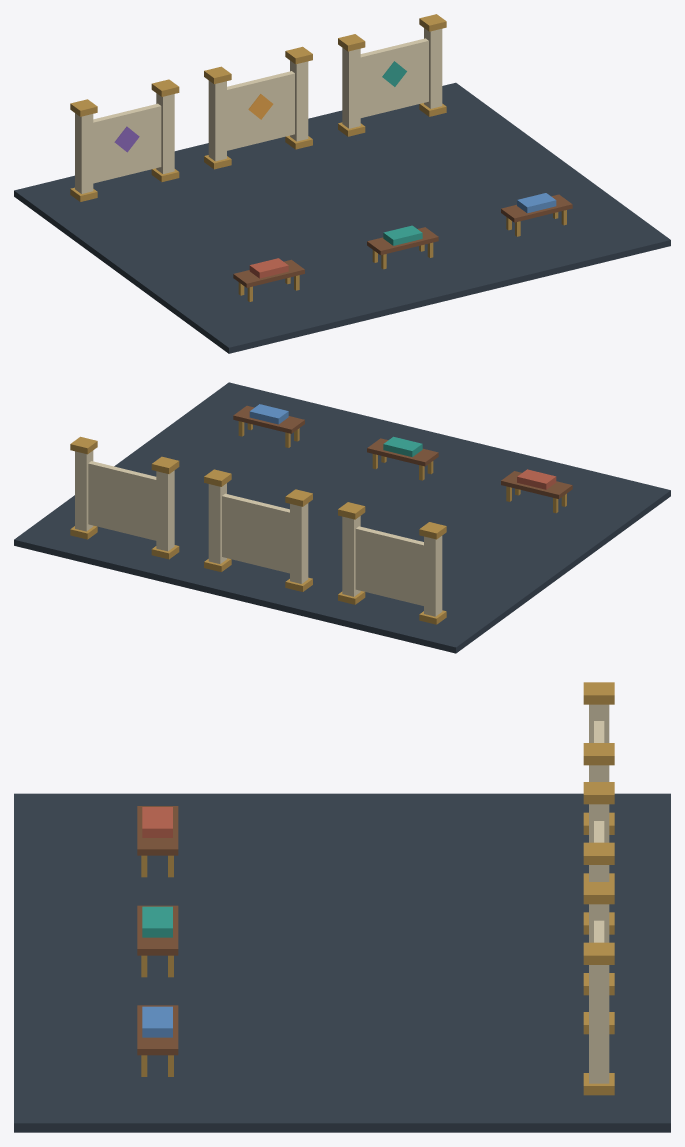
The model's file is invitation_gallery.glb.
3 renders of one model, top to bottom at view 1: azimuth 30°, elevation 25°; view 2: azimuth 150°, elevation 25°; view 3: azimuth 270°, elevation 25°, orthographic. The views are drawn at different scales.
Parts seen in each view (by area): view 1: invitation_gallery; view 2: invitation_gallery; view 3: invitation_gallery.
Part boxes in pixels (box(x1,y1,x2,y2)): invitation_gallery: box(14, 14, 670, 353); invitation_gallery: box(14, 382, 670, 653); invitation_gallery: box(14, 682, 670, 1132).
Size of the model in its own units: 76 by 16 by 64.
